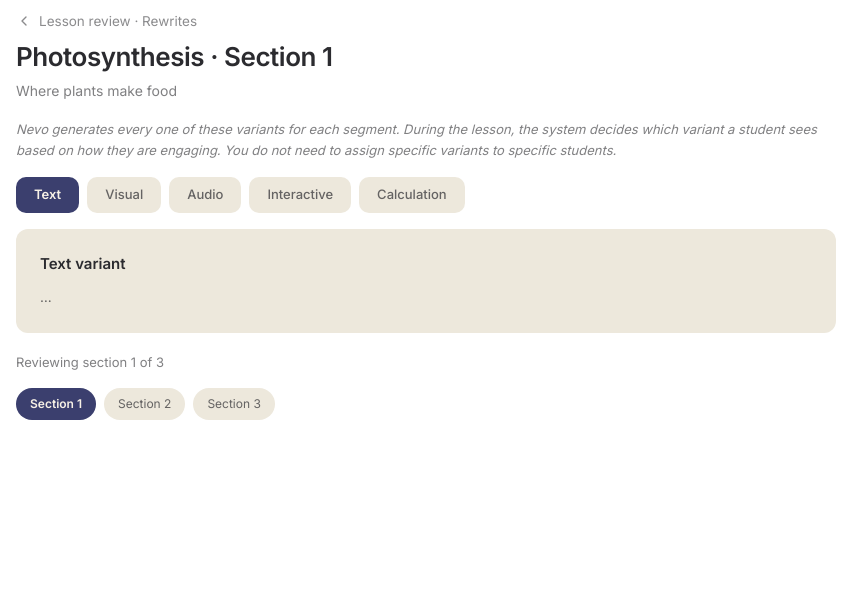
Test: the interactive version, as an activity › shows the activity's title, what is needed, the steps in order and the outcome
Step 1. Click the tab "Interactive" → (300, 195), box [249, 177, 351, 213]
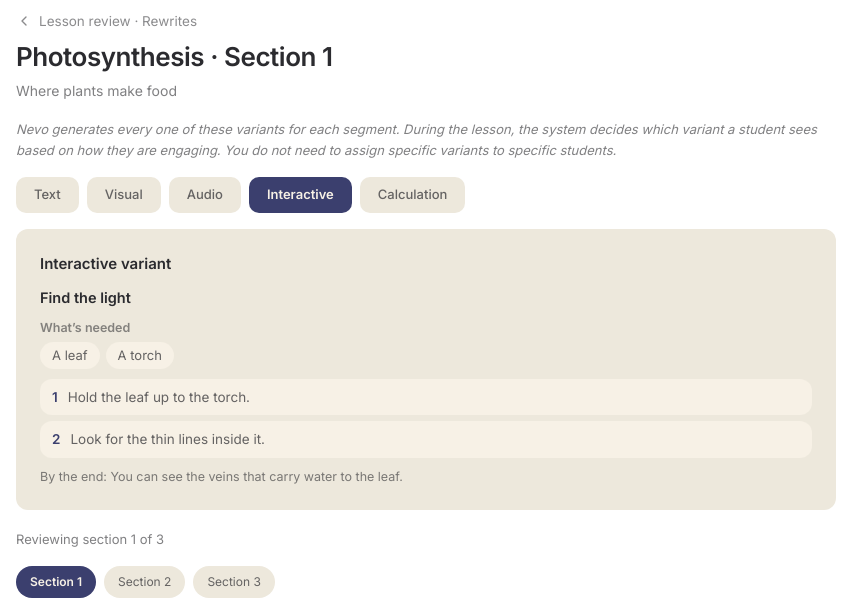
Expected: the text "Find the light" is shown, [40, 289, 131, 306]
Expected: the list item "A leaf" is shown, [40, 342, 100, 369]
Expected: the list item "A torch" is shown, [106, 342, 174, 369]
